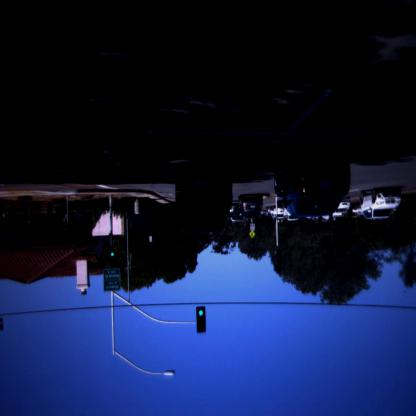trafficlight: (194, 300, 209, 340), (108, 244, 118, 270)
